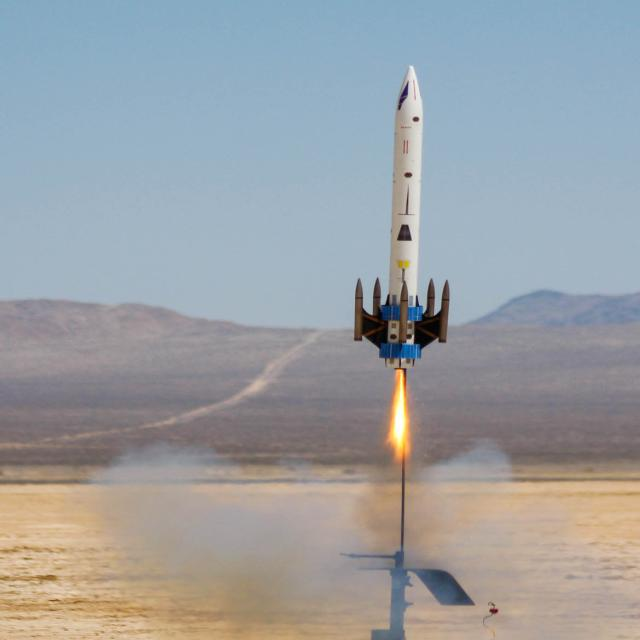Rocket: (351, 62, 453, 370)
